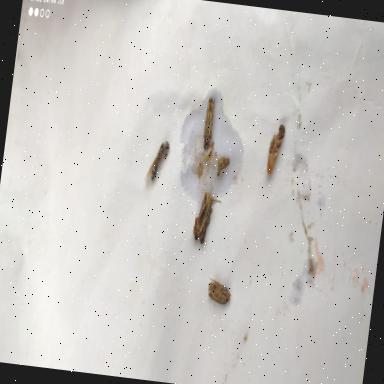pbw: (190, 183, 214, 242), (204, 274, 233, 306), (200, 96, 215, 156)
